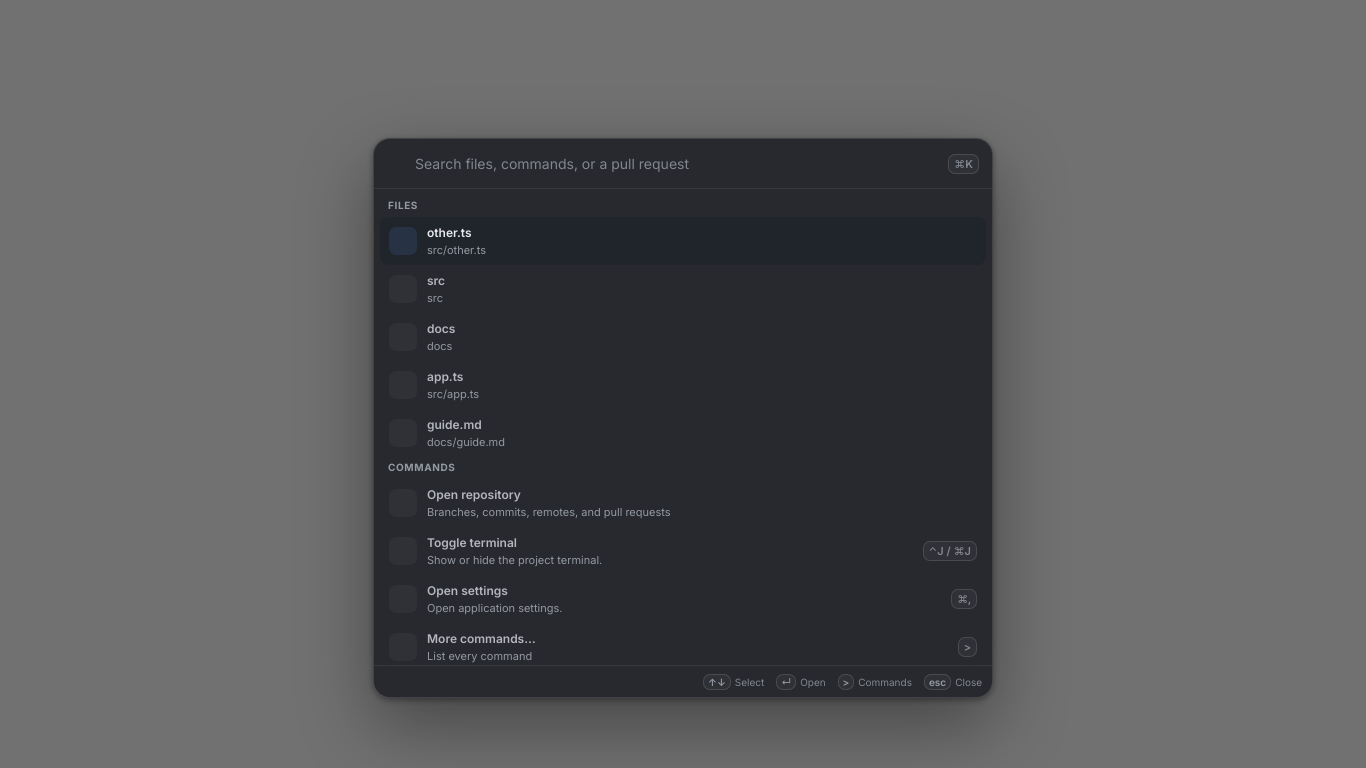
Scenario: CommandPalette › ghost text completes the top path match and Tab accepts it
Type "src/a" into the field with placeholder "Search files, commands, or a pull request" at x=676, y=164, box 413,154 -> 938,173
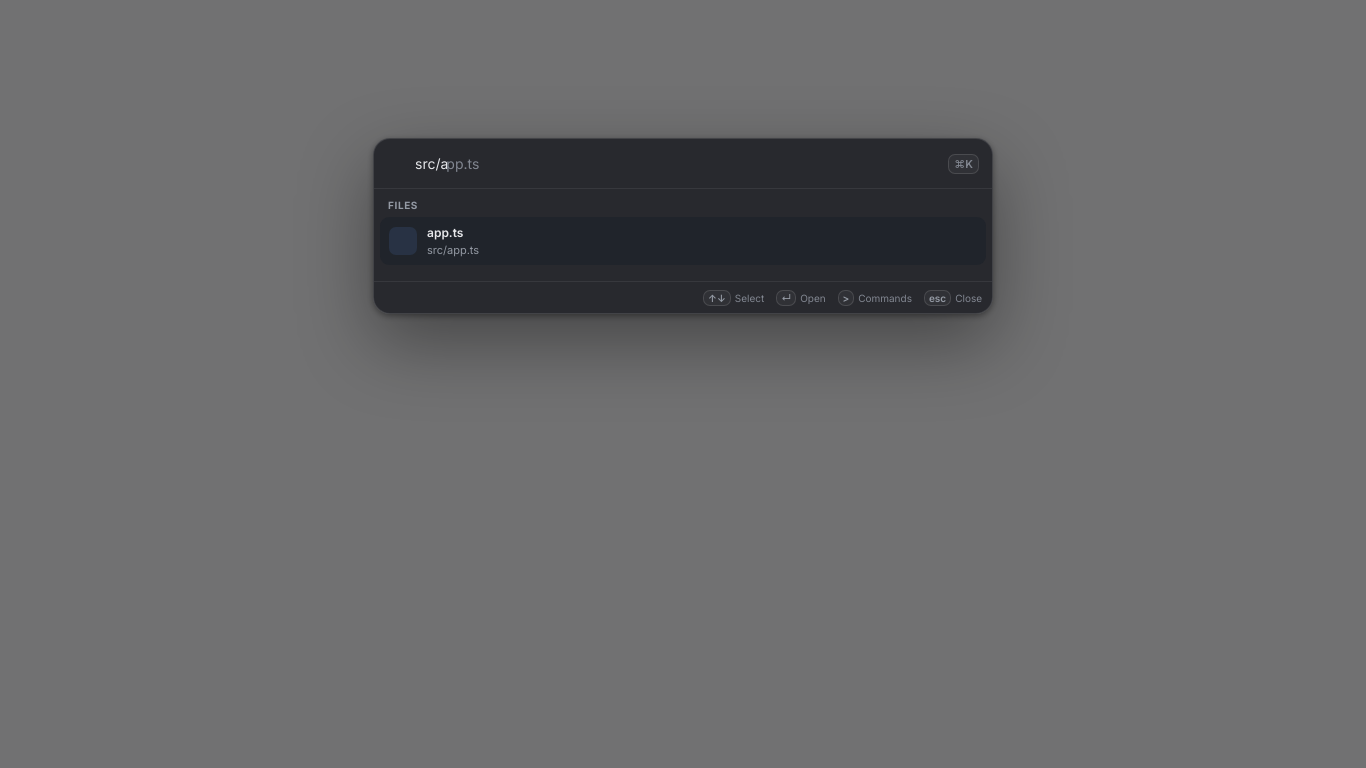
Now the element with class "command-palette-ghost" reads "src/a pp.ts", box 413,155 -> 479,172
Press Tab in the field with placeholder "Search files, commands, or a pull request", box 413,154 -> 912,173
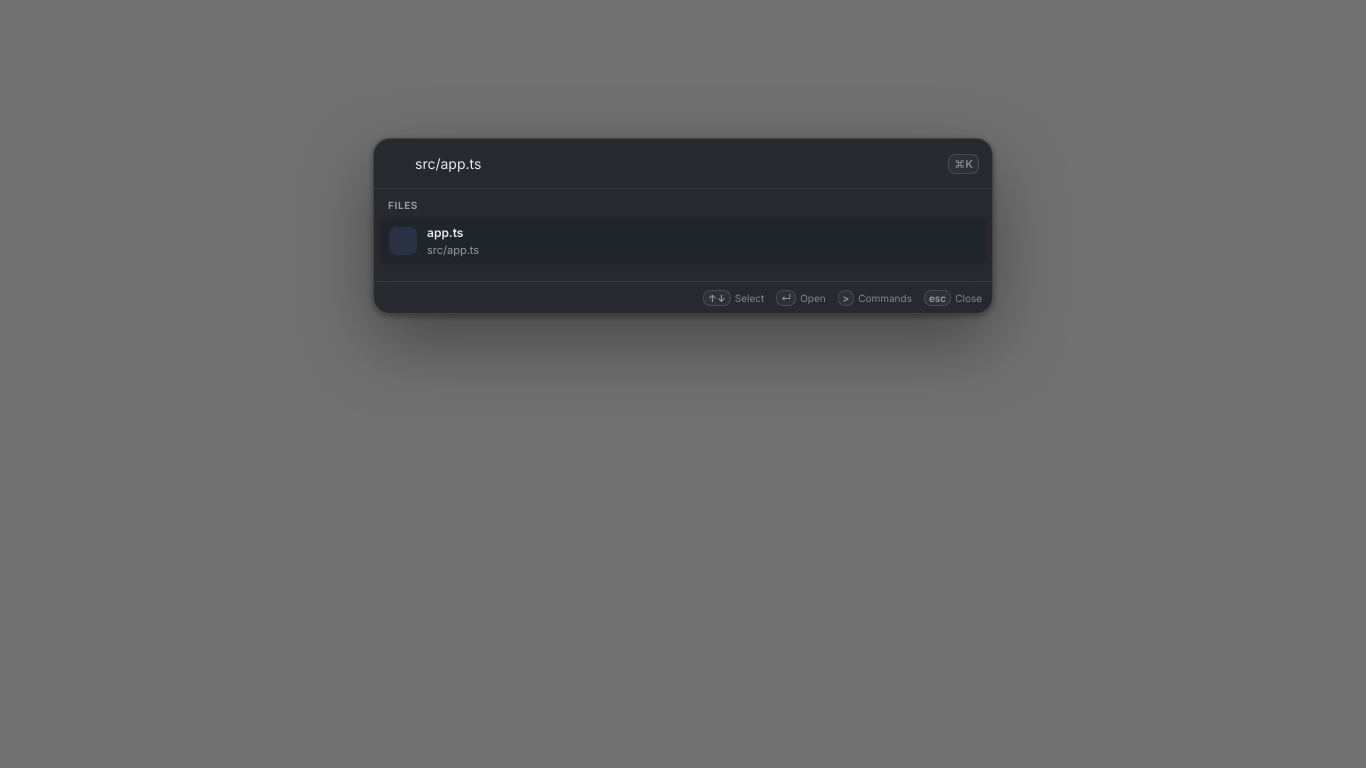
Now the field with placeholder "Search files, commands, or a pull request" holds "src/app.ts", box 413,154 -> 938,173
Now the element with class "command-palette-ghost" is gone
